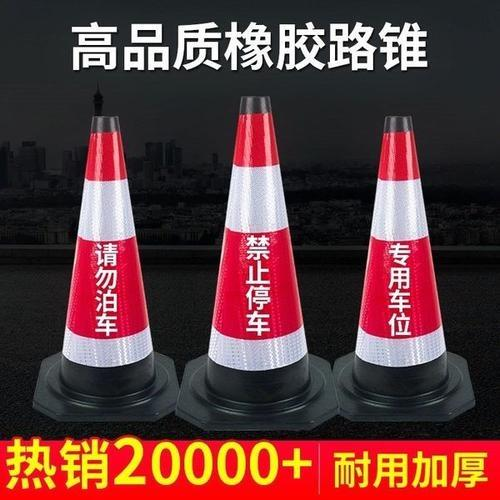cone_barrel: (183, 99, 325, 422), (35, 110, 170, 416), (333, 117, 464, 415)
